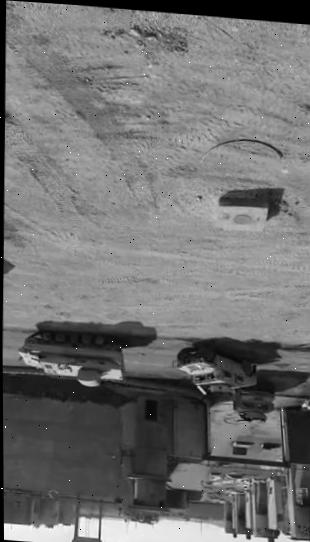armored_car: (169, 339, 257, 400), (230, 378, 276, 425)
tank: (16, 325, 122, 387)
